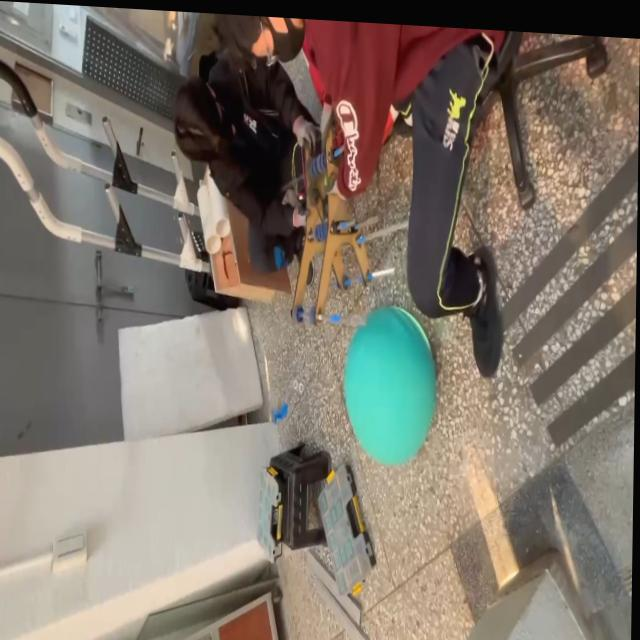ALGAE: (341, 301, 439, 470)
